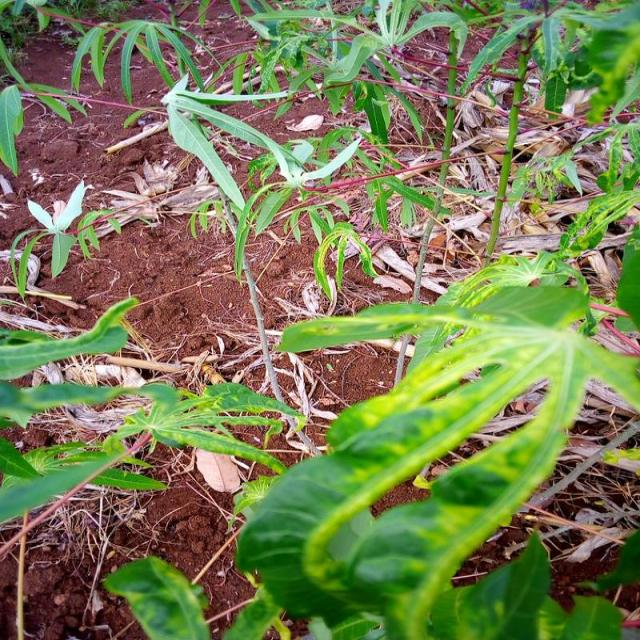cassava leaf: (233, 255, 638, 637)
